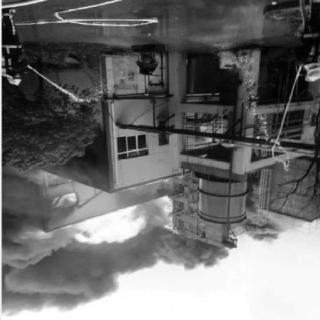Fire: (34, 179, 164, 255)
Smoke: (2, 243, 235, 311), (240, 213, 302, 249)
other: (302, 66, 320, 86), (6, 77, 26, 89)
